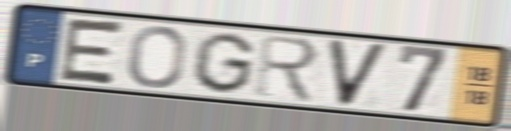7: (396, 42, 449, 117)
E: (55, 16, 129, 88)
G: (188, 30, 258, 96)
O: (125, 24, 190, 90)
R: (252, 32, 322, 106)
V: (324, 37, 393, 110)
